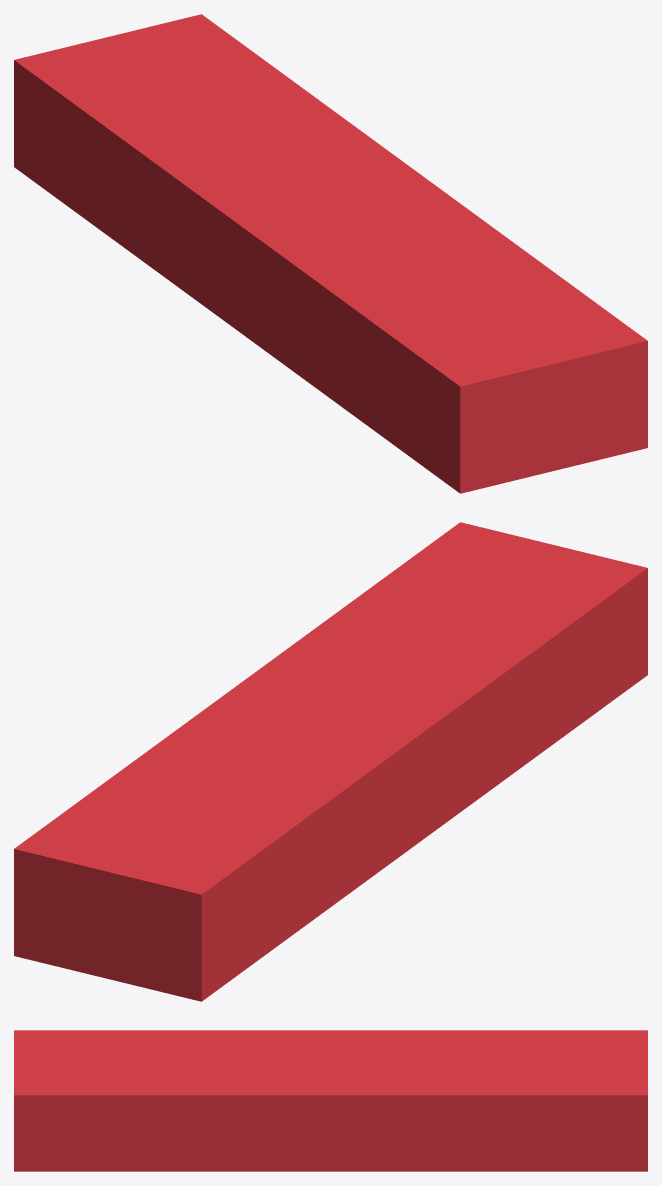
The model's file is minus.glb.
3 views of the same model, one above another, from view 1: azimuth 30°, elevation 25°; view 2: azimuth 150°, elevation 25°; view 3: azimuth 270°, elevation 25° (orthographic). The views are drawn at different scales.
Visible parts, largest first — view 1: Cube; view 2: Cube; view 3: Cube.
Part boxes in pixels (x1,y1,x2,y2): Cube: (14,14,647,493); Cube: (14,522,647,1001); Cube: (14,1030,647,1171).
Size of the model in its own units: 0.00481 by 0.00263 by 0.0198.
